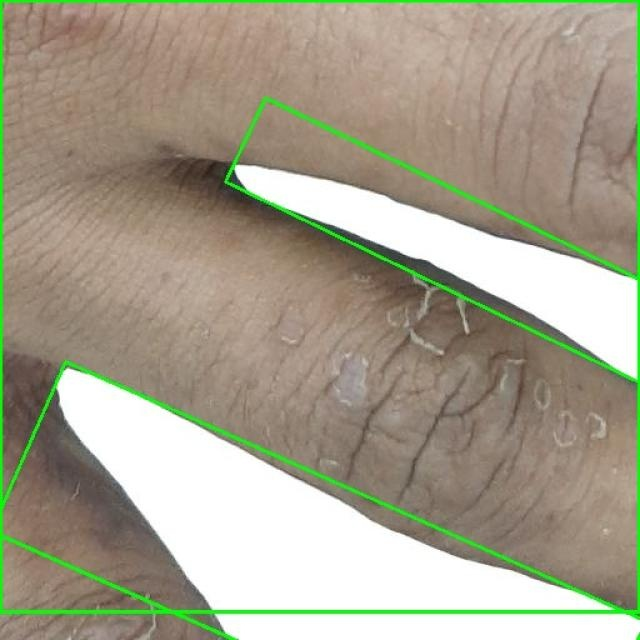Scabies: (0, 0, 639, 611), (0, 362, 640, 640), (226, 99, 640, 381)
